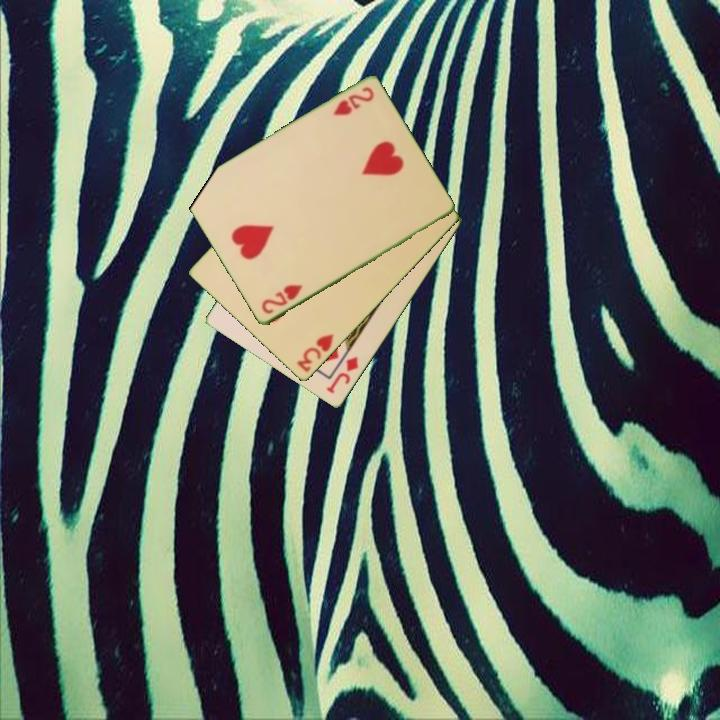2h: (258, 281, 306, 317), (330, 84, 377, 119)
3h: (293, 330, 337, 376)
Jd: (323, 353, 361, 397)
